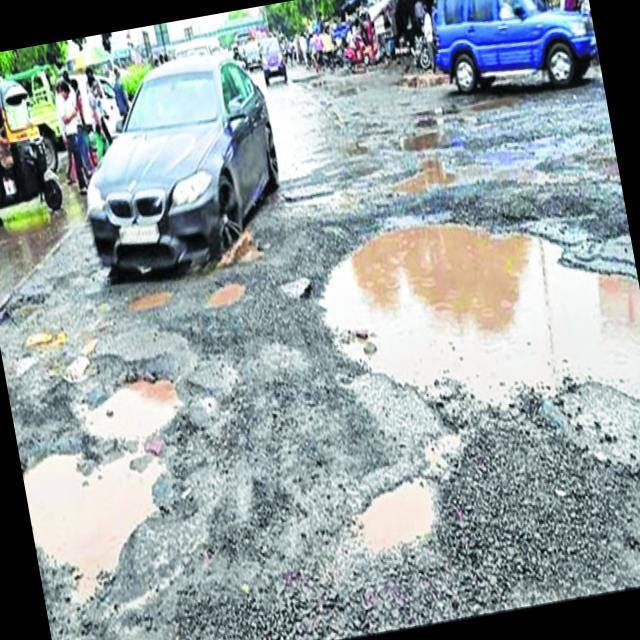Pothole: (315, 177, 640, 461), (21, 442, 181, 608), (347, 472, 448, 559), (72, 372, 192, 444), (387, 150, 457, 196), (60, 330, 114, 381), (200, 276, 247, 314), (124, 286, 179, 318)
